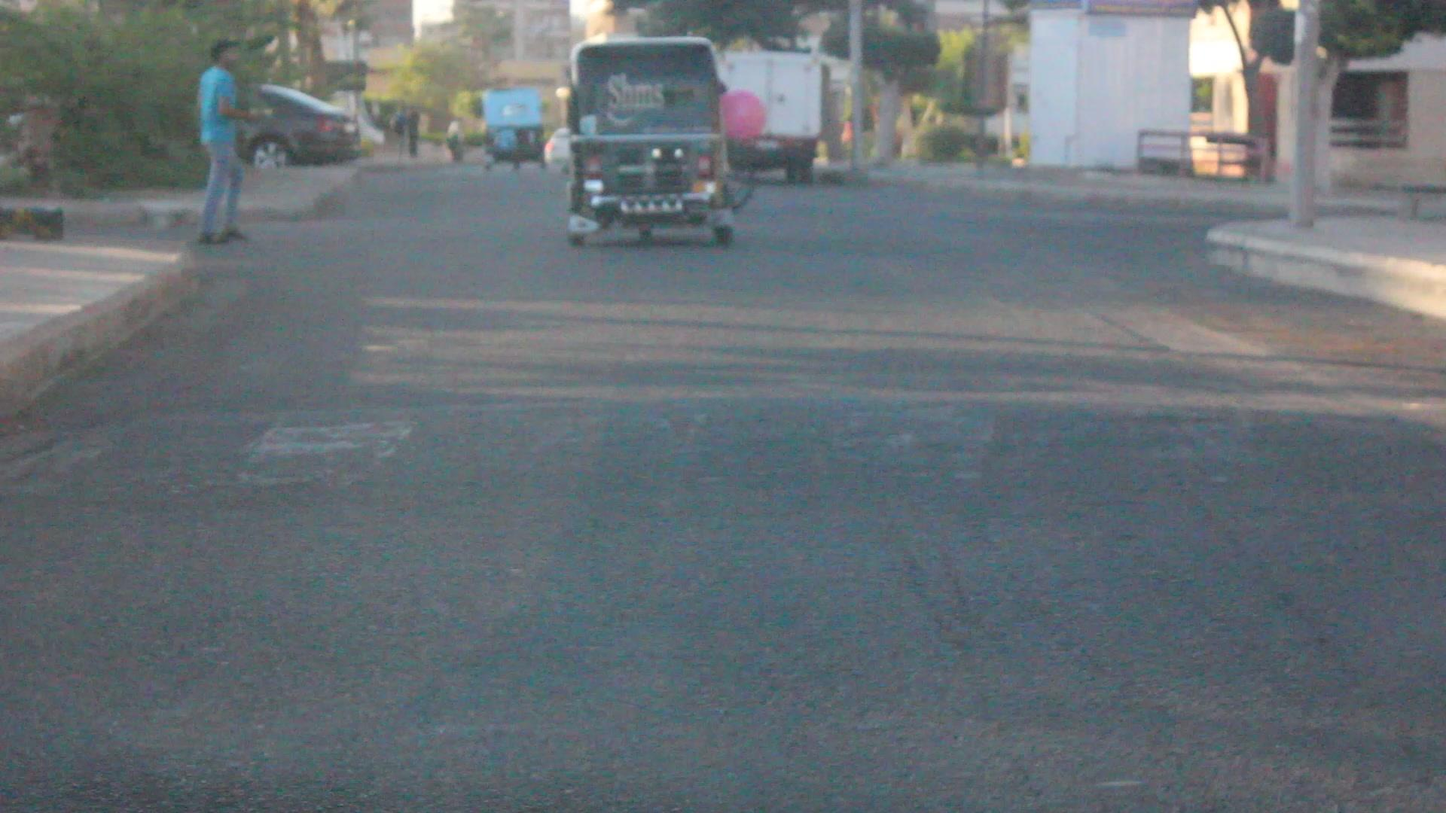Bump: (4, 399, 1444, 499)
